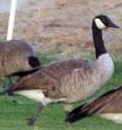goose: (6, 12, 120, 124)
